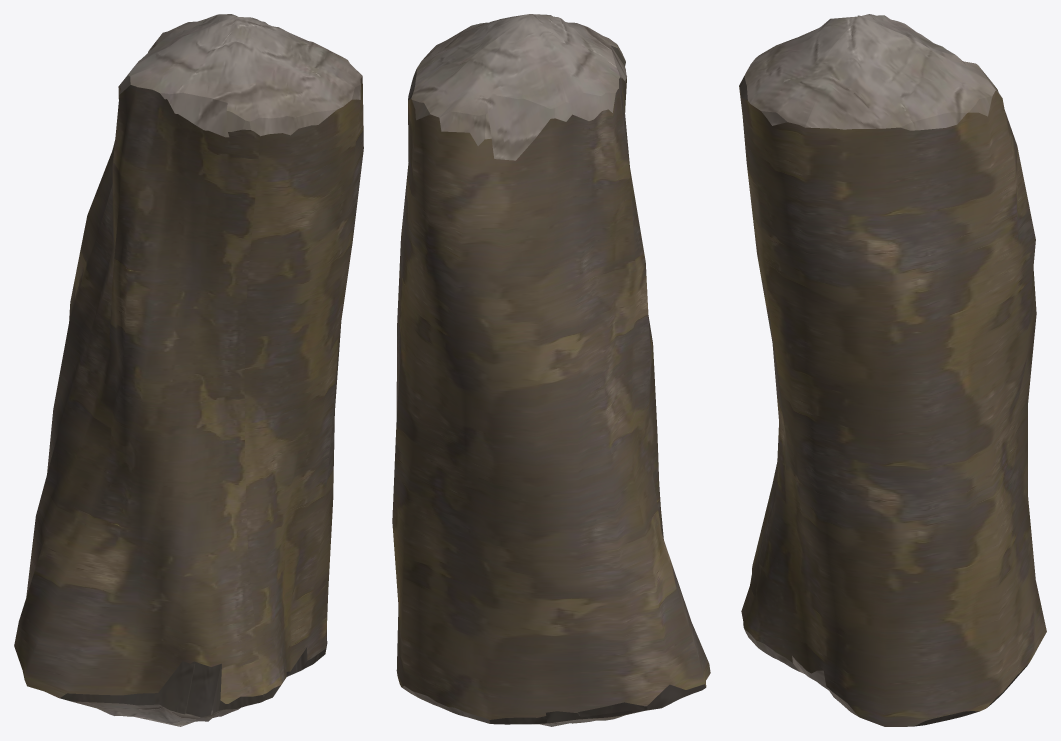
The picture shows the model from 3 angles, left to right: view 1: azimuth 30°, elevation 25°; view 2: azimuth 150°, elevation 25°; view 3: azimuth 270°, elevation 25°; orthographic projection. The views are drawn at different scales.
Visible parts, largest first — view 1: SM_Yew_03_quarter_01_LOD0; view 2: SM_Yew_03_quarter_01_LOD0; view 3: SM_Yew_03_quarter_01_LOD0.
Boxes of the visible parts, x1,y1,x2,y2 form: SM_Yew_03_quarter_01_LOD0: [14, 14, 363, 726]; SM_Yew_03_quarter_01_LOD0: [392, 14, 710, 726]; SM_Yew_03_quarter_01_LOD0: [739, 14, 1046, 726].
Size of the model in its own units: 0.9197 by 2.01 by 0.7973.
Materials: 1 (1 with a texture image).
